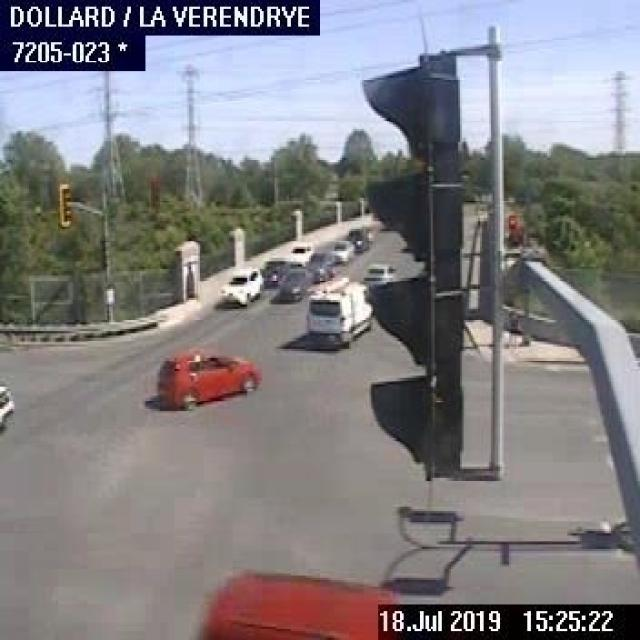pedestrian: (504, 307, 519, 352)
vehicle: (204, 573, 391, 638), (155, 349, 258, 409), (304, 274, 376, 347), (215, 266, 262, 306), (276, 264, 312, 300), (259, 256, 287, 287), (304, 252, 330, 280), (286, 240, 311, 268), (327, 238, 355, 263), (0, 382, 13, 427), (362, 263, 394, 281), (346, 227, 370, 250)
